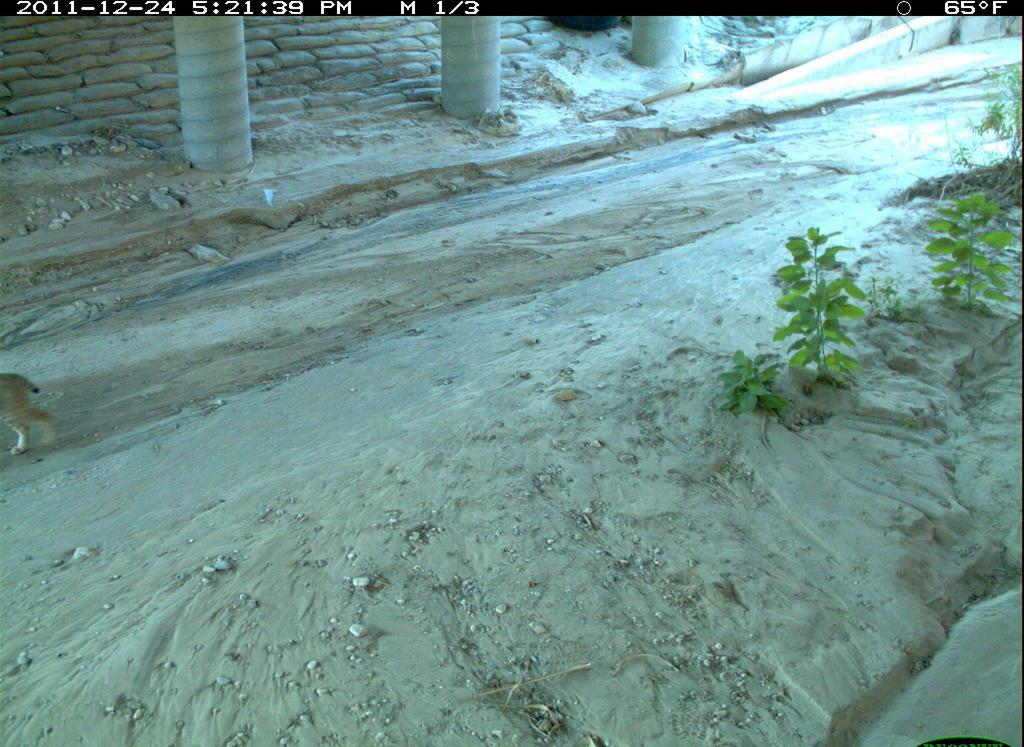bobcat: (6, 365, 66, 463)
